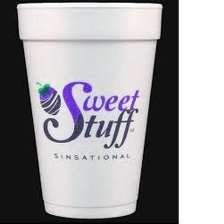paper_cup: (11, 0, 169, 224)
